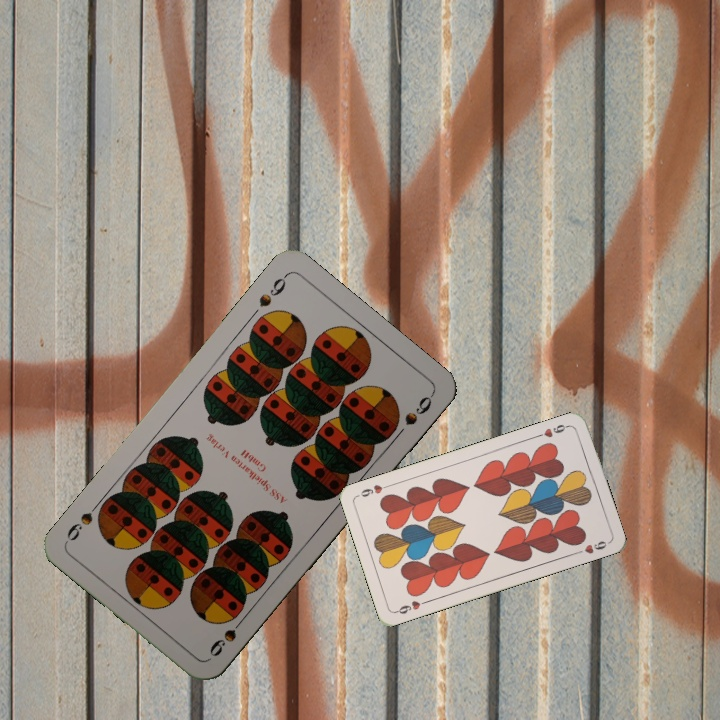H9: (392, 596, 431, 617), (533, 420, 572, 440)
S9: (205, 611, 249, 660), (255, 270, 290, 310)
